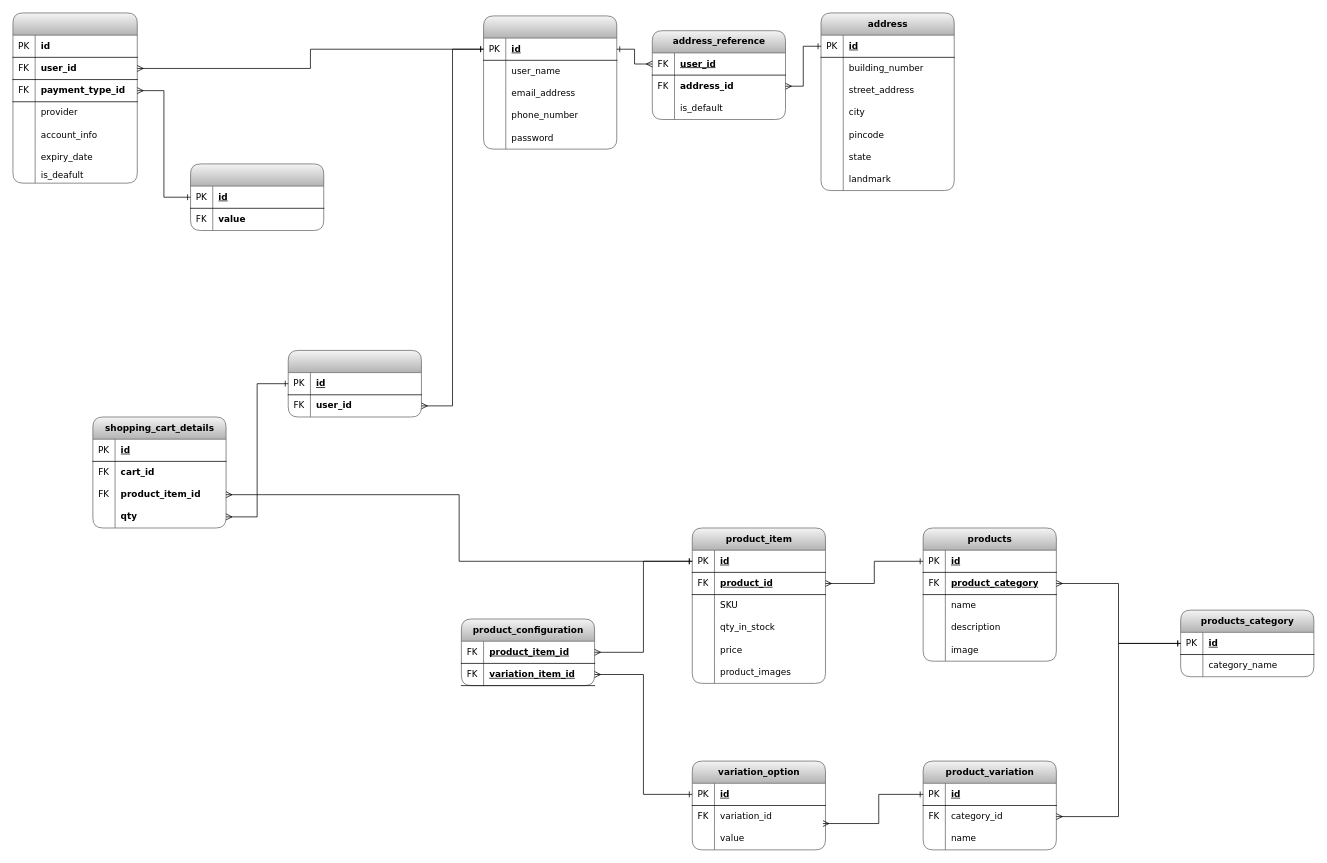
Some shapes in this 1327 by 863 pixel diagram are drawn without their labels. The box of each missing label's shape, as (x1, y1, x2, y2) in pixels:
payment_type: (190, 163, 324, 231)
shopping_cart: (287, 350, 421, 417)
site_user: (483, 15, 617, 149)
user_payment_details: (12, 12, 137, 183)
